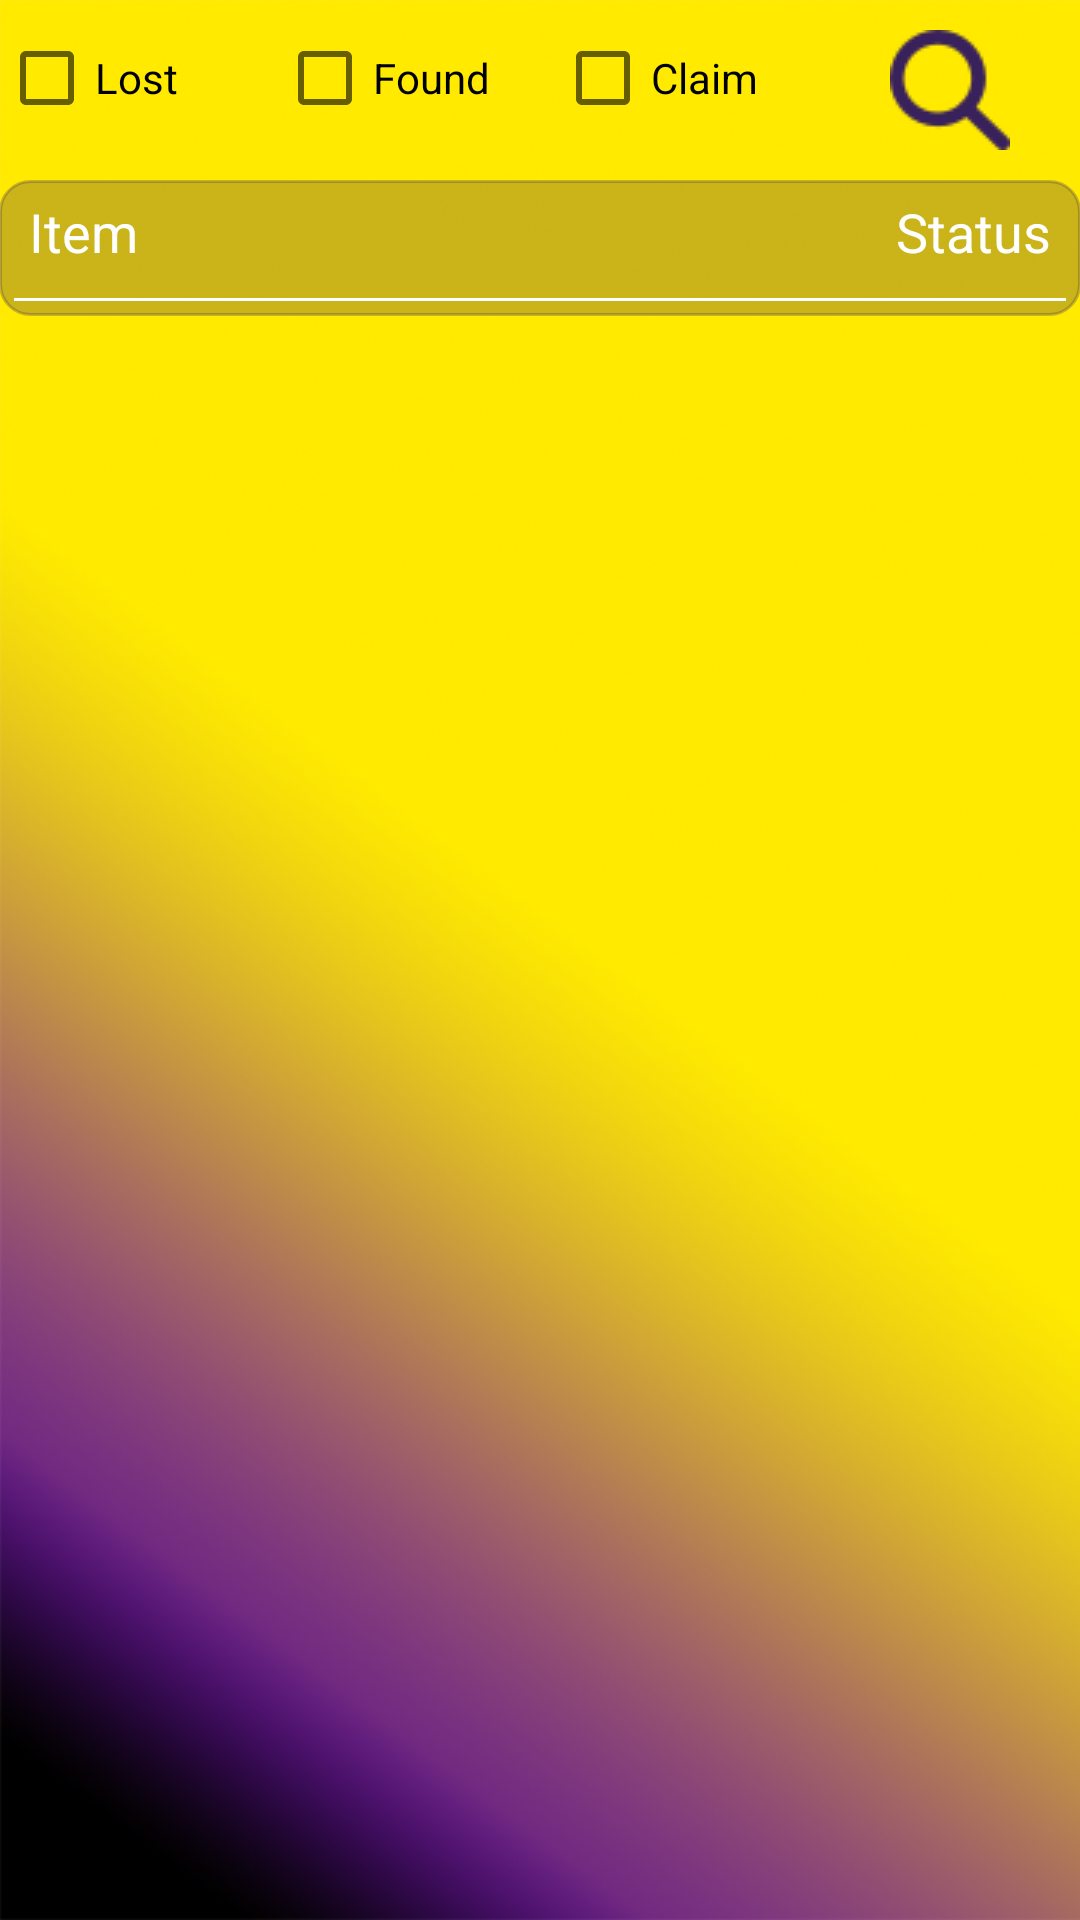

Icon bounding boxes for this 1080 x 1920 phone screenshot, format (x1, y1, x2, y2):
search: (890, 30, 1010, 150)
